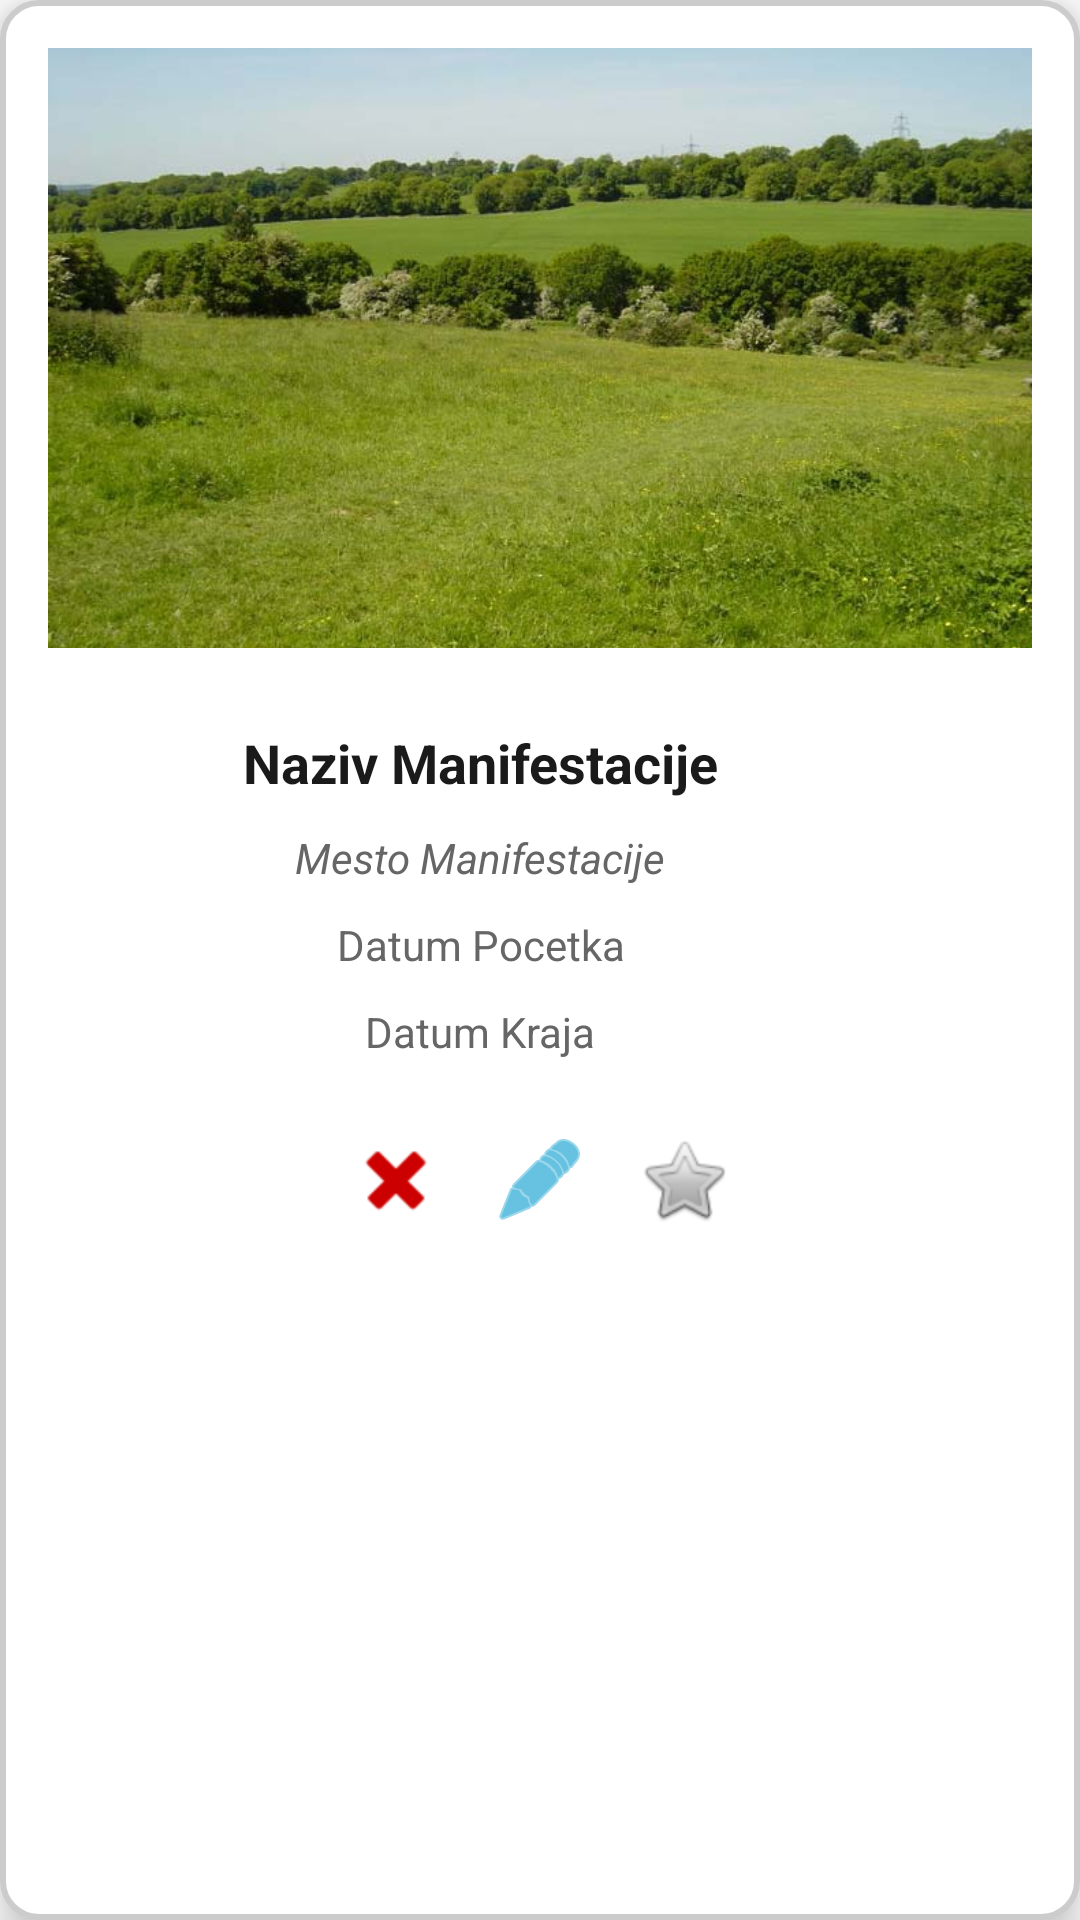

Screen size 1080×1920. Icon name, then its box in pixels as (left=x1, top=y1, right=x2, bottom=y2):
delete: (left=365, top=1151, right=427, bottom=1210)
edit: (left=499, top=1139, right=580, bottom=1220)
star: (left=645, top=1142, right=725, bottom=1220)
